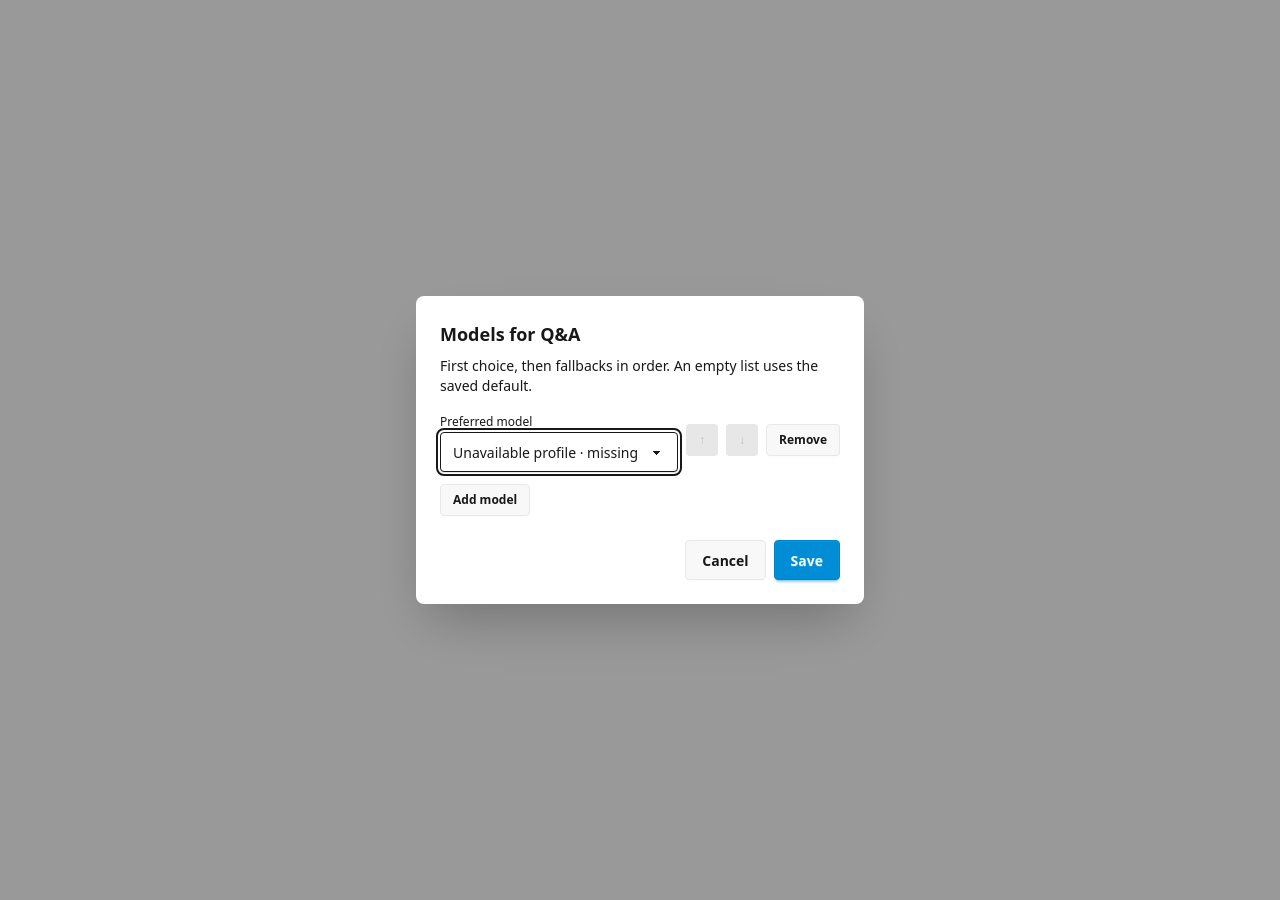
Test: AppModelSettingsModal › keeps failed save visible and retains the draft
The image size is (1280, 900).
Click the button "Save".
click(807, 560)  # box [774,540,840,580]
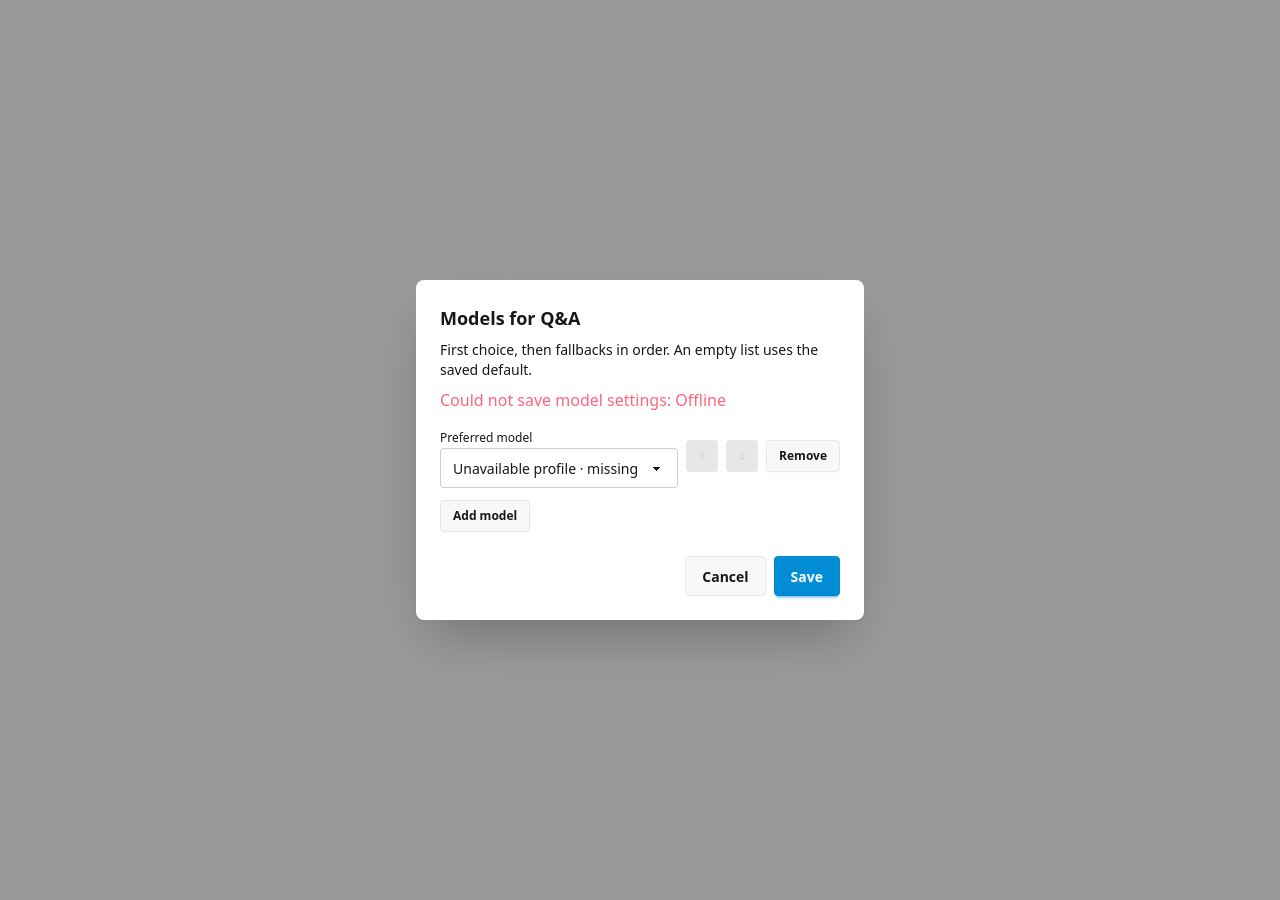
Check: the message shows "Offline", box [440,389,726,411]
